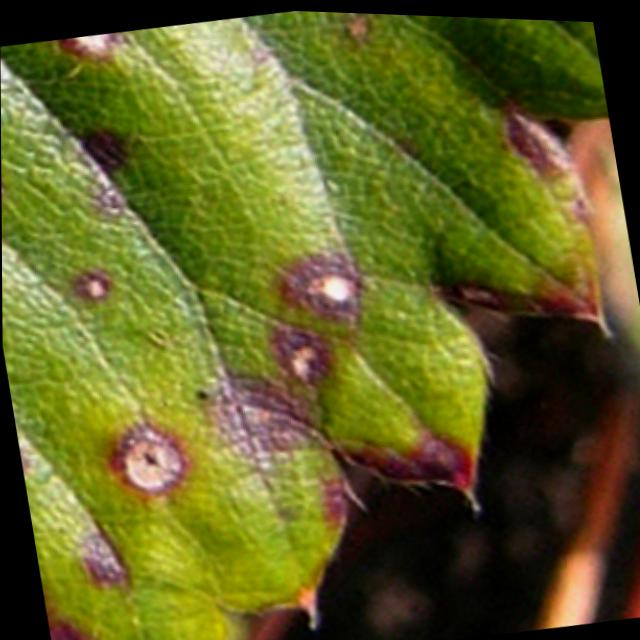Leaf Spot: (0, 9, 615, 640)
